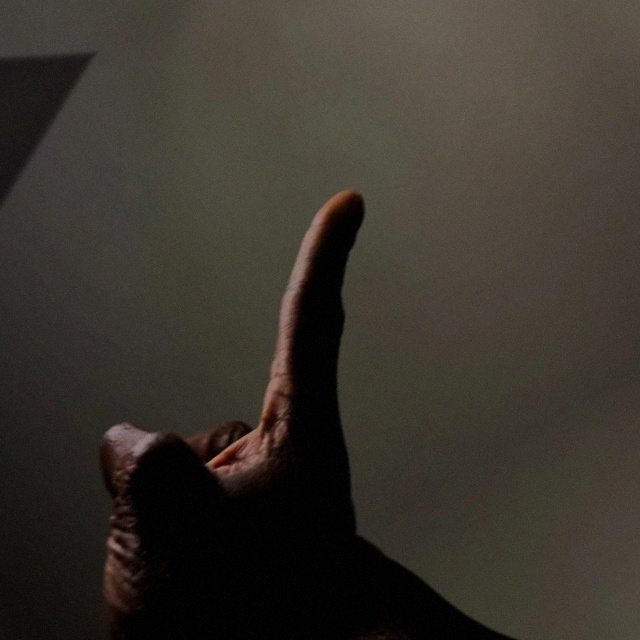Scissors: (0, 180, 513, 640)
